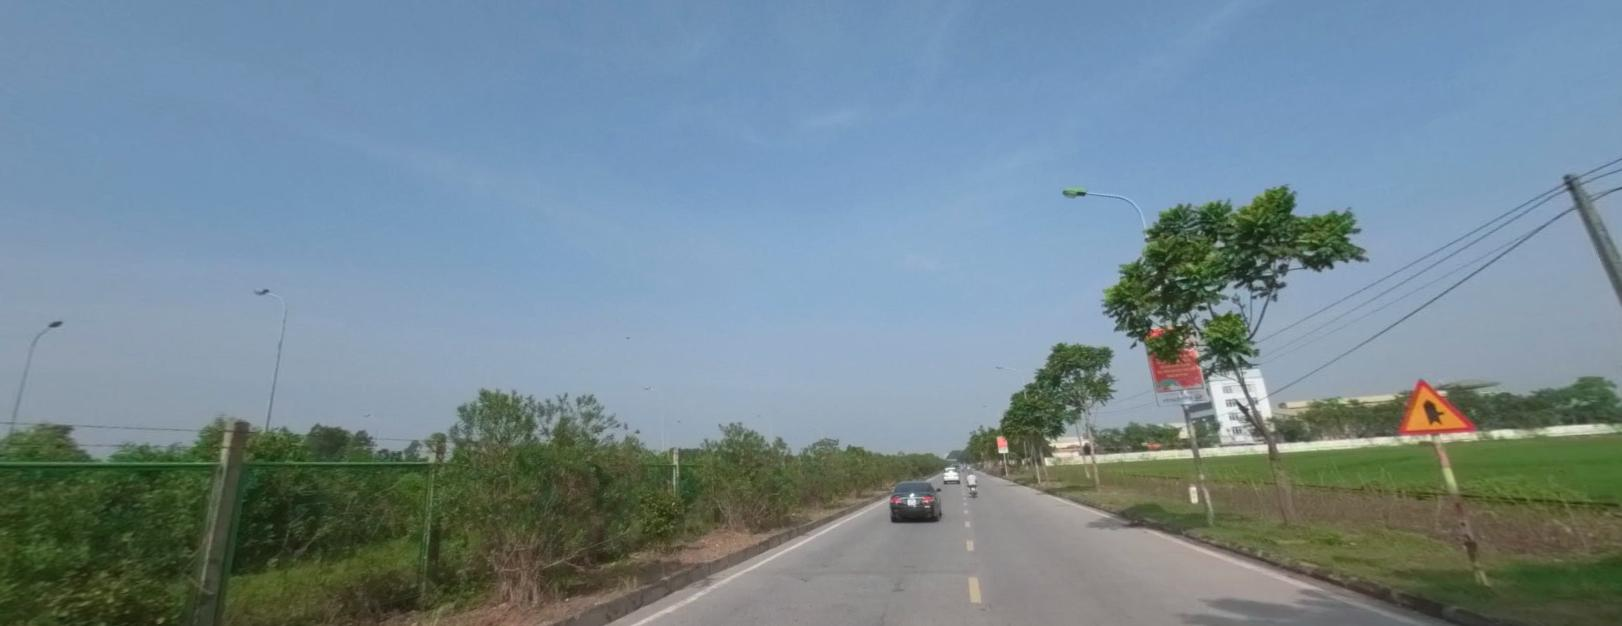Nguy hiem: (1393, 375, 1477, 433), (1396, 377, 1479, 433), (1395, 379, 1475, 433), (1401, 377, 1475, 433)
